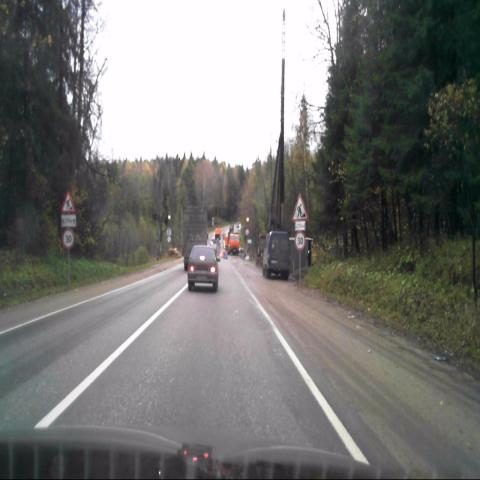1_25: (61, 192, 75, 213)
